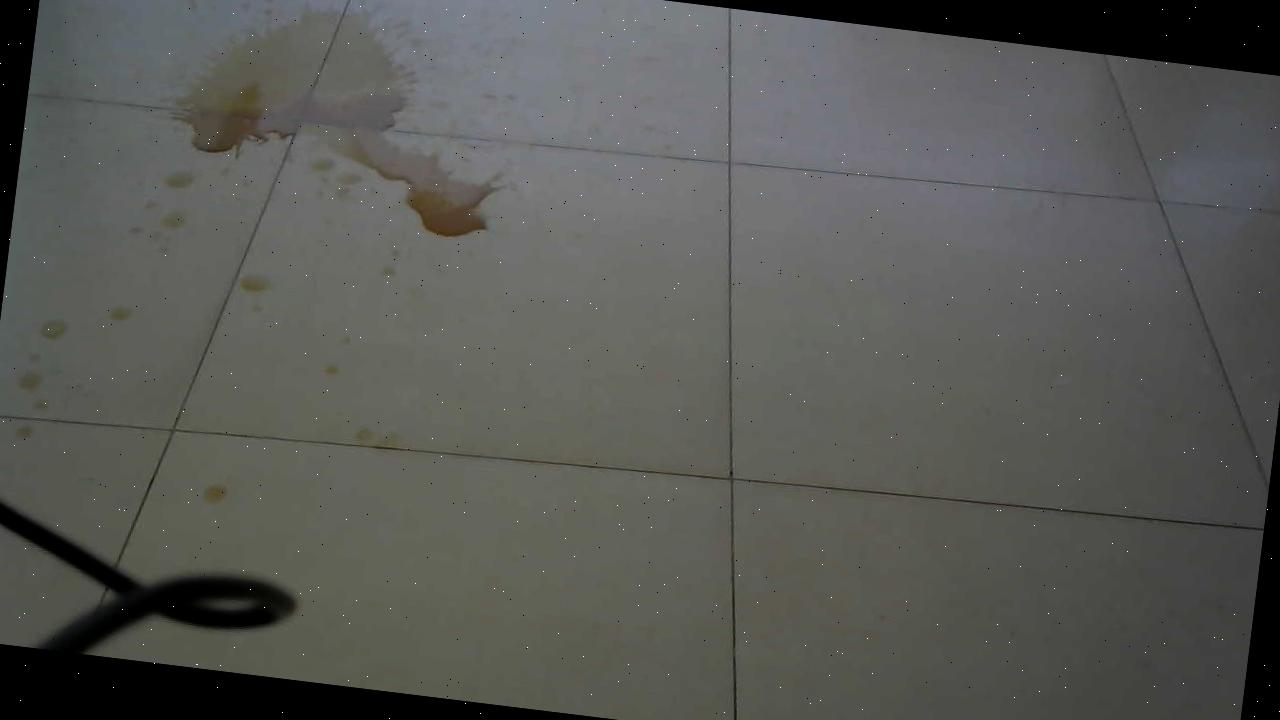dirty_floor: (131, 0, 534, 276)
